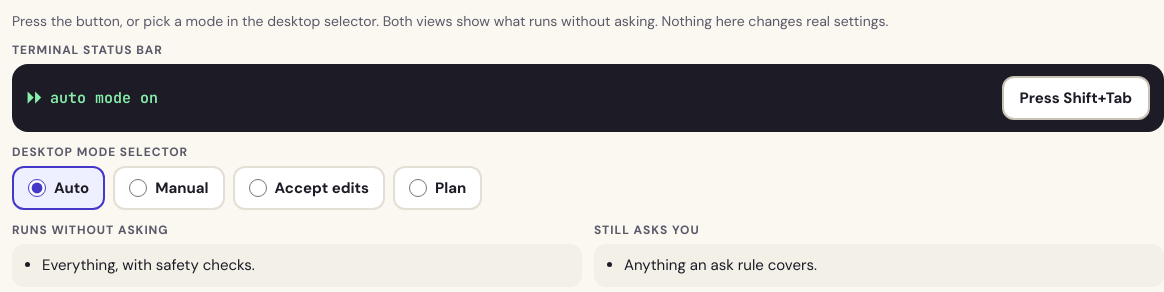
Test: ModesDemo › the desktop radios choose a mode and the status bar follows
Expected: the element named "Mode selector" is shown, x1=12 y1=166 x2=482 y2=210
Step 1. Click the radio button labelled "Plan" → (418,188), box x1=409 y1=179 x2=427 y2=197
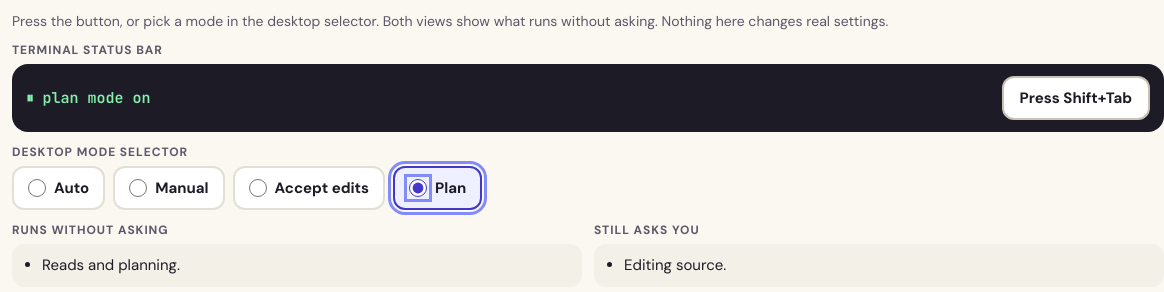
Expected: the text with test id "status-bar" reads "⏸ plan mode on", x1=26 y1=88 x2=150 y2=108
Expected: the list item "Reads and planning." is shown, x1=42 y1=255 x2=180 y2=275
